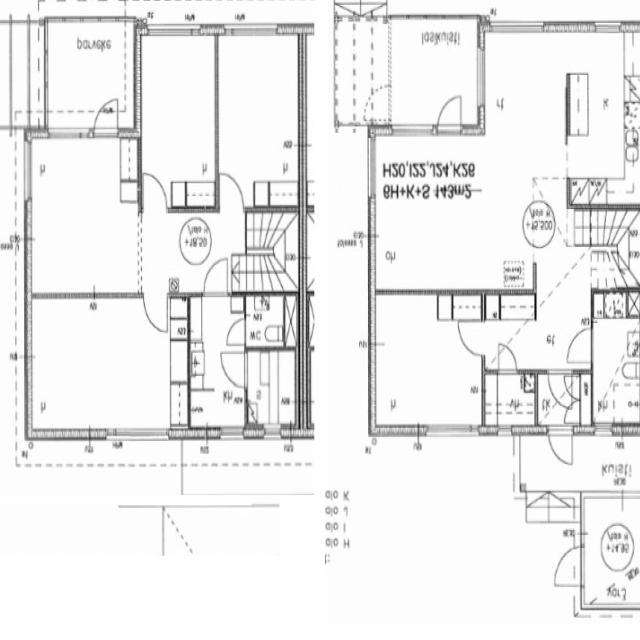door: (438, 89, 463, 136), (554, 548, 584, 586), (548, 425, 572, 472), (95, 94, 118, 138), (566, 328, 594, 363), (548, 369, 572, 409), (144, 292, 168, 332), (220, 353, 248, 387), (143, 173, 167, 212), (220, 173, 244, 212), (458, 322, 485, 356), (114, 218, 141, 252), (114, 252, 141, 286), (205, 258, 228, 297), (498, 344, 516, 374), (227, 320, 246, 345), (563, 376, 581, 399), (563, 400, 581, 422)
